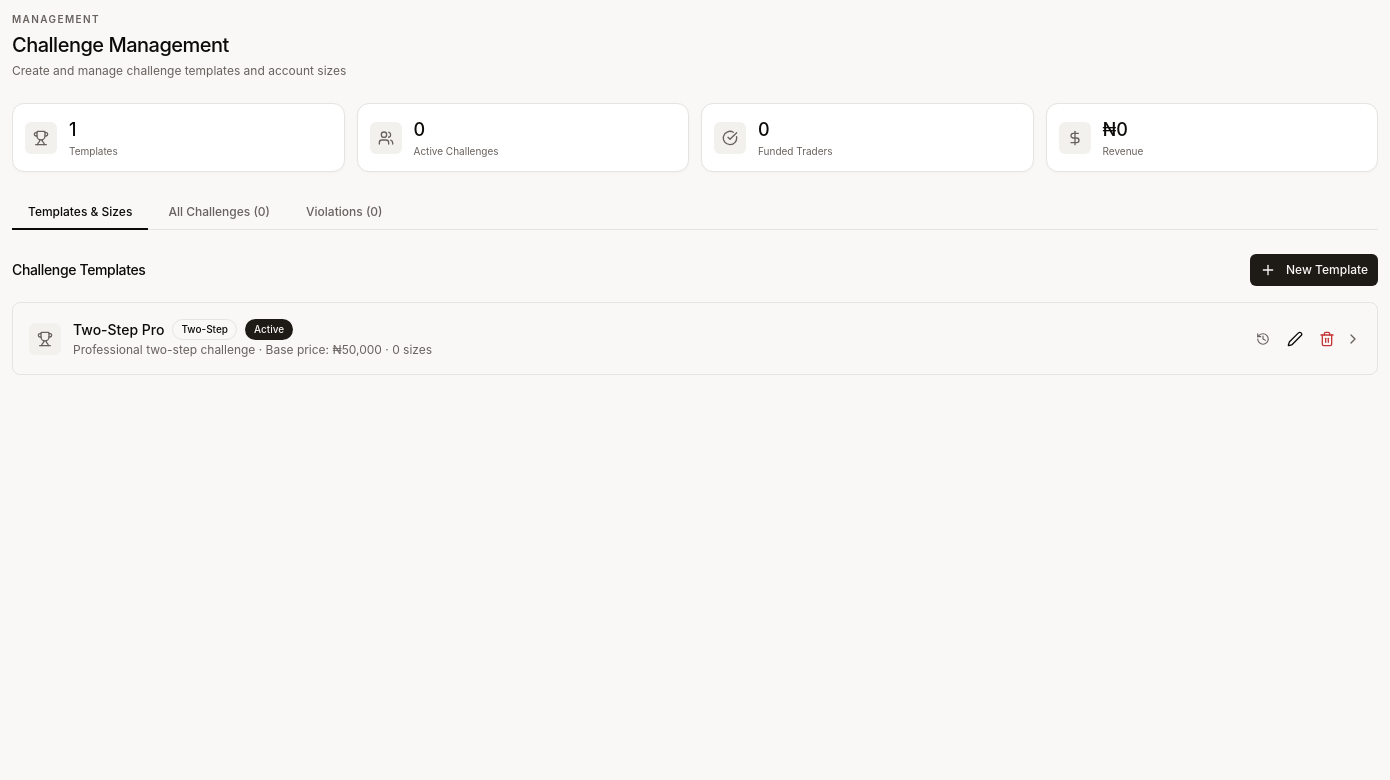
Test: AdminChallenges Page › Templates Tab › shows template rule details on expand
The width and height of the screenshot is (1390, 780).
Click the text "Two-Step Pro": (119, 330) [73,320,164,340]
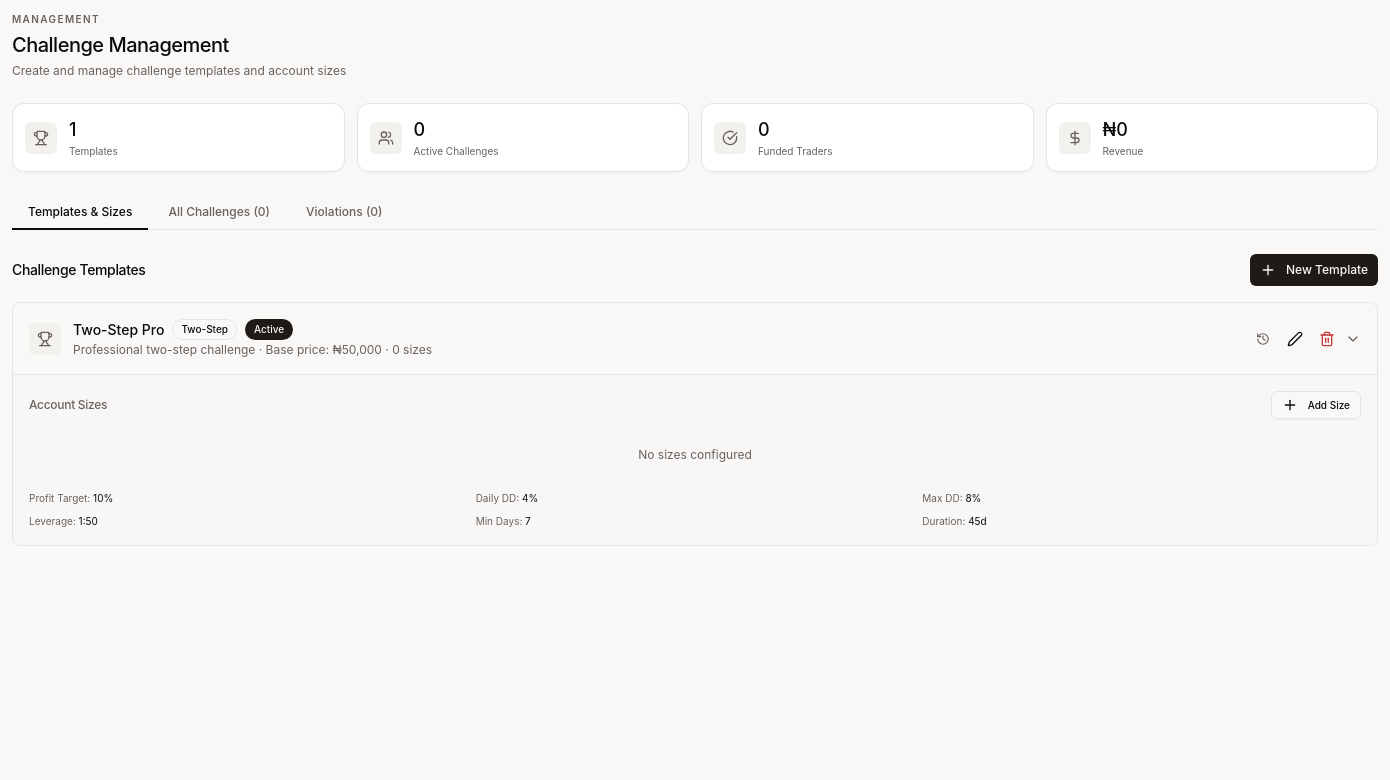
Expected: the text "Profit Target: 10%" is shown, [29,492,113,504]
Expected: the text "Daily DD: 4%" is shown, [476,492,538,504]
Expected: the text "Max DD: 8%" is shown, [922,492,981,504]
